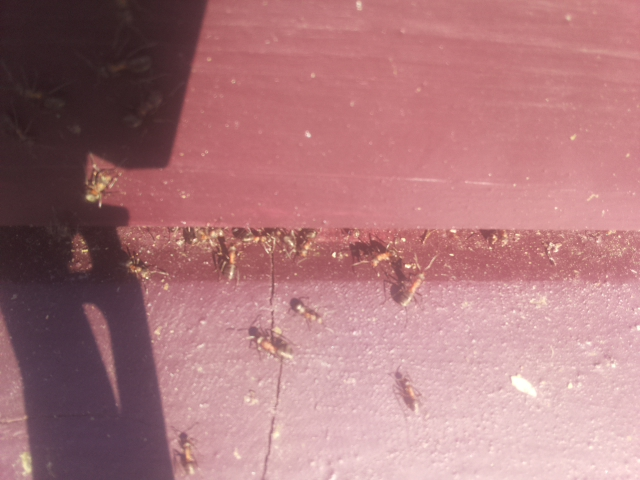ant: (241, 317, 298, 369), (116, 84, 168, 133), (80, 164, 120, 209), (391, 361, 422, 418), (283, 293, 327, 328), (173, 426, 200, 480), (218, 242, 246, 290), (395, 268, 427, 309)
